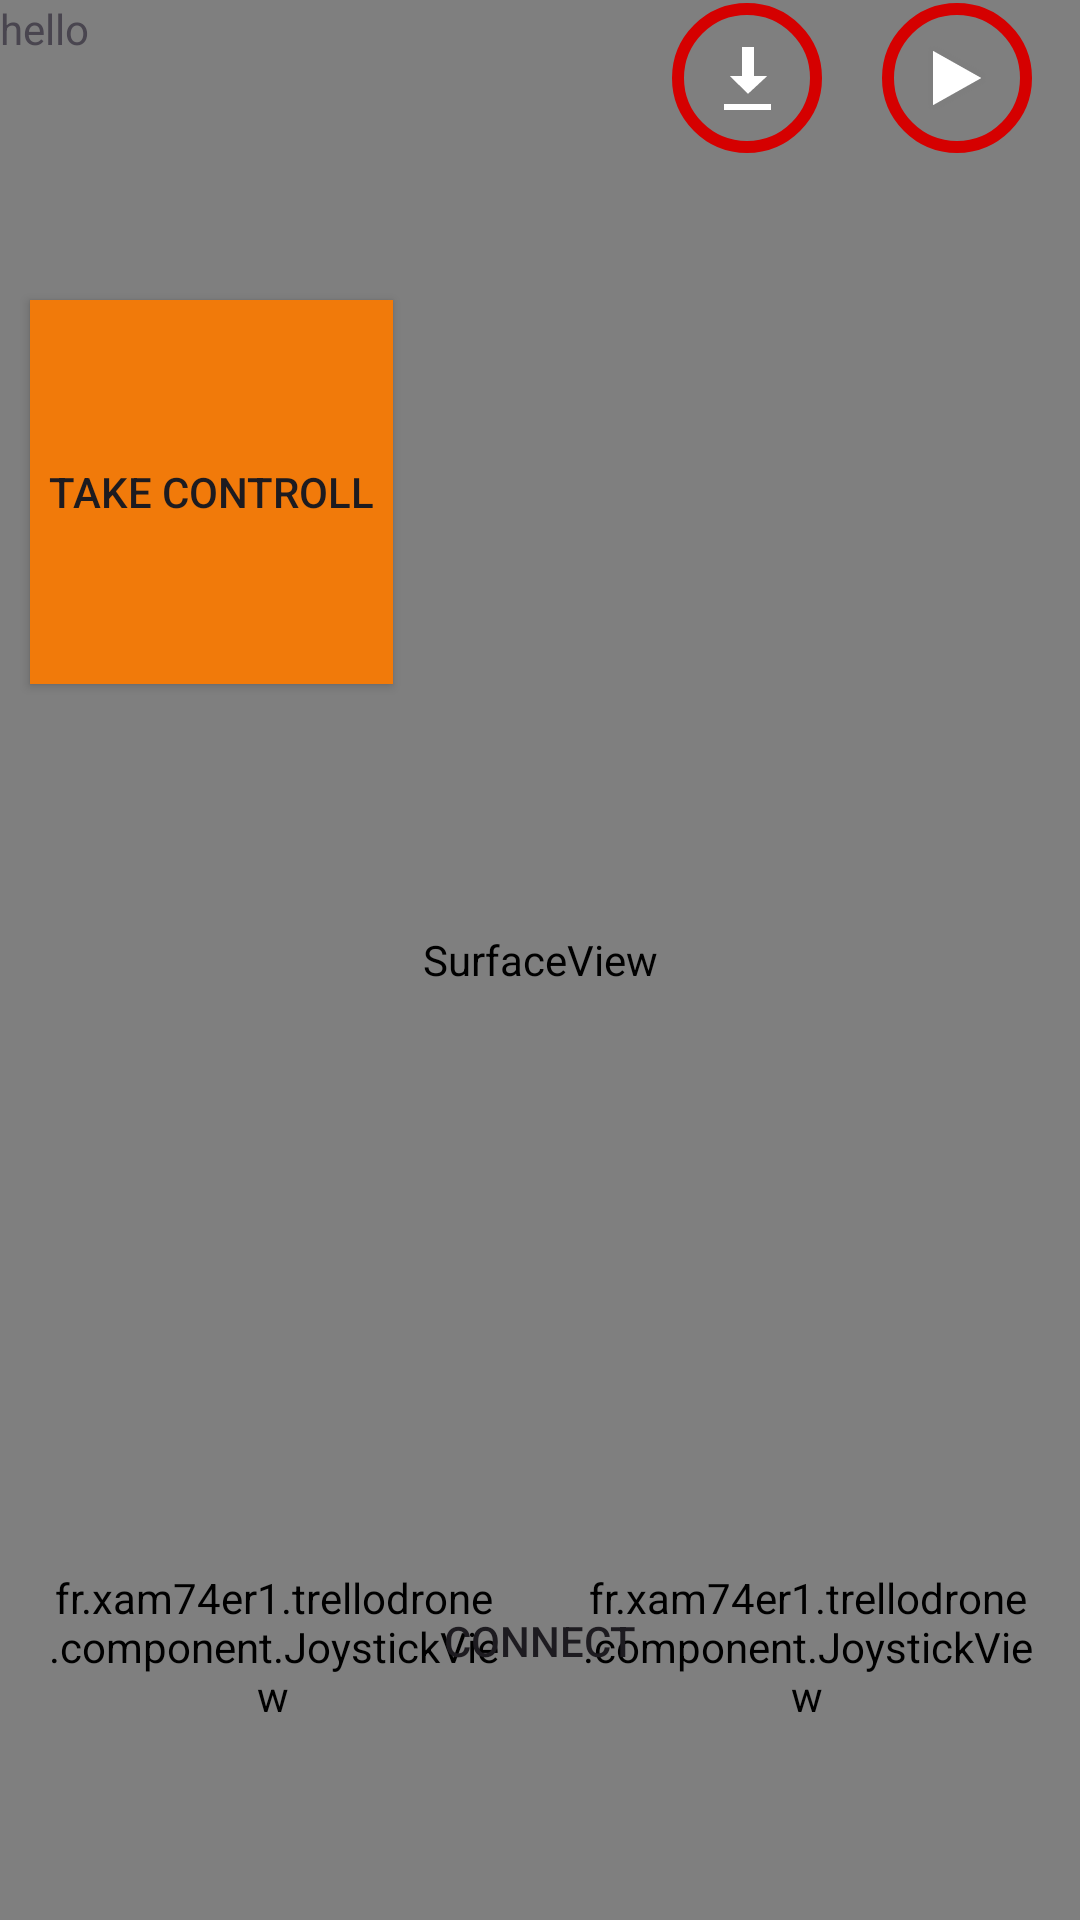

Named icons in this screenshot (1080px x 1920px) and their centers, point (x, y):
download done: point (747, 78)
play: point (957, 78)
